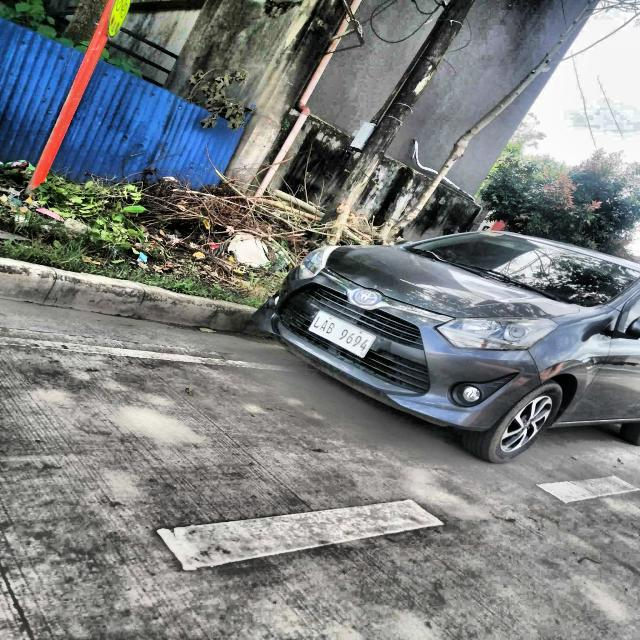license-plate: (307, 310, 376, 359)
